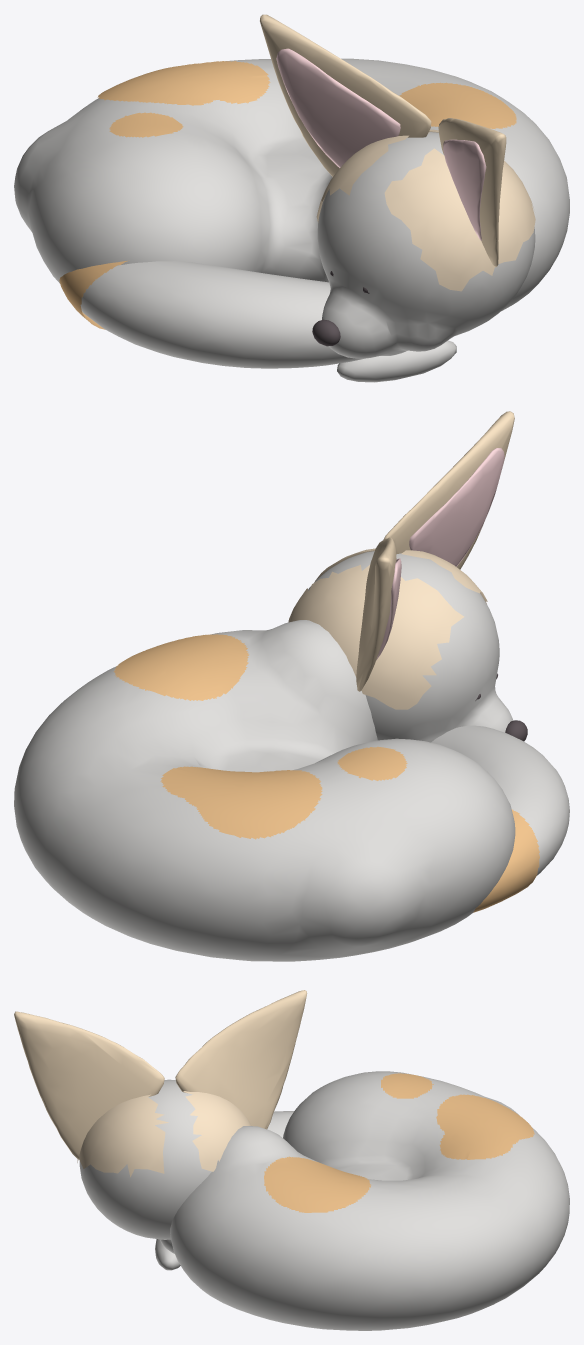
The model's file is ZukzonSleep.fbx.
3 views of the same model, one above another, from view 1: azimuth 30°, elevation 25°; view 2: azimuth 150°, elevation 25°; view 3: azimuth 270°, elevation 25° (orthographic). The views are drawn at different scales.
Visible parts, largest first — view 1: Sleep_Body, Sleep_Head, Sleep_Tail, Sleep_FaceCream, Sleep_BodyPatches, Sleep_RightEarInner, Sleep_RightEar, Sleep_LeftEar, Sleep_Paws, Sleep_LeftEarInner, Sleep_TailBand, Sleep_Nose; view 2: Sleep_Body, Sleep_BodyPatches, Sleep_Head, Sleep_FaceCream, Sleep_Tail, Sleep_LeftEarInner, Sleep_LeftEar, Sleep_RightEar, Sleep_TailBand; view 3: Sleep_Body, Sleep_LeftEar, Sleep_BodyPatches, Sleep_RightEar, Sleep_Head, Sleep_FaceCream, Sleep_Tail, Sleep_Paws.
Boxes of the visible parts, bbox=[...] form: Sleep_Body: bbox=[14, 58, 569, 311]; Sleep_Head: bbox=[317, 132, 535, 358]; Sleep_Tail: bbox=[80, 261, 363, 368]; Sleep_FaceCream: bbox=[316, 129, 535, 291]; Sleep_BodyPatches: bbox=[97, 61, 516, 137]; Sleep_RightEarInner: bbox=[276, 48, 400, 167]; Sleep_RightEar: bbox=[260, 14, 431, 176]; Sleep_LeftEar: bbox=[438, 118, 506, 267]; Sleep_Paws: bbox=[337, 340, 456, 382]; Sleep_LeftEarInner: bbox=[443, 139, 486, 240]; Sleep_TailBand: bbox=[59, 260, 129, 329]; Sleep_Nose: bbox=[312, 319, 340, 346]; Sleep_Body: bbox=[14, 620, 515, 961]; Sleep_BodyPatches: bbox=[113, 634, 407, 839]; Sleep_Head: bbox=[308, 551, 513, 742]; Sleep_FaceCream: bbox=[288, 548, 487, 709]; Sleep_Tail: bbox=[431, 725, 569, 875]; Sleep_LeftEarInner: bbox=[409, 448, 504, 566]; Sleep_LeftEar: bbox=[383, 411, 514, 569]; Sleep_RightEar: bbox=[356, 537, 396, 691]; Sleep_TailBand: bbox=[473, 809, 539, 912]; Sleep_Body: bbox=[170, 1071, 569, 1330]; Sleep_LeftEar: bbox=[14, 1011, 164, 1159]; Sleep_BodyPatches: bbox=[264, 1073, 534, 1212]; Sleep_RightEar: bbox=[175, 990, 307, 1129]; Sleep_Head: bbox=[79, 1079, 218, 1239]; Sleep_FaceCream: bbox=[77, 1091, 251, 1177]; Sleep_Tail: bbox=[160, 1111, 294, 1253]; Sleep_Paws: bbox=[155, 1239, 180, 1270].
Size of the model in its own units: 1.77 by 1.14 by 2.28.
